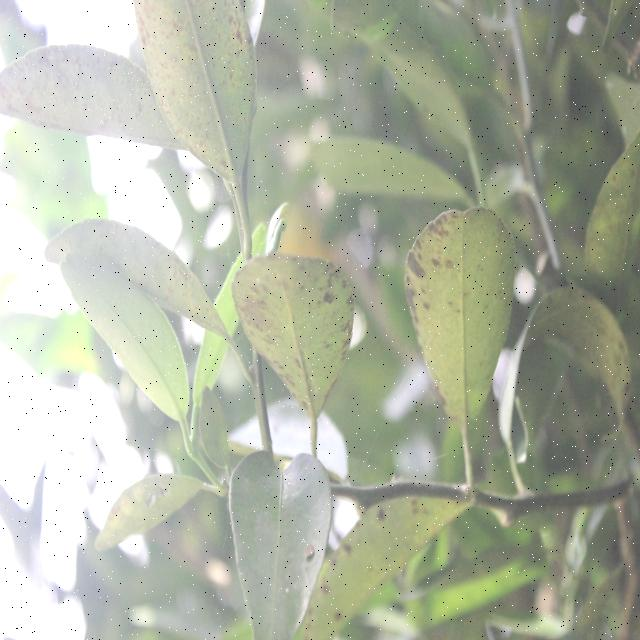melanose: (398, 195, 532, 450), (123, 0, 266, 202), (303, 469, 471, 640), (39, 210, 226, 353), (230, 243, 374, 424), (0, 47, 187, 173), (507, 286, 637, 433)
